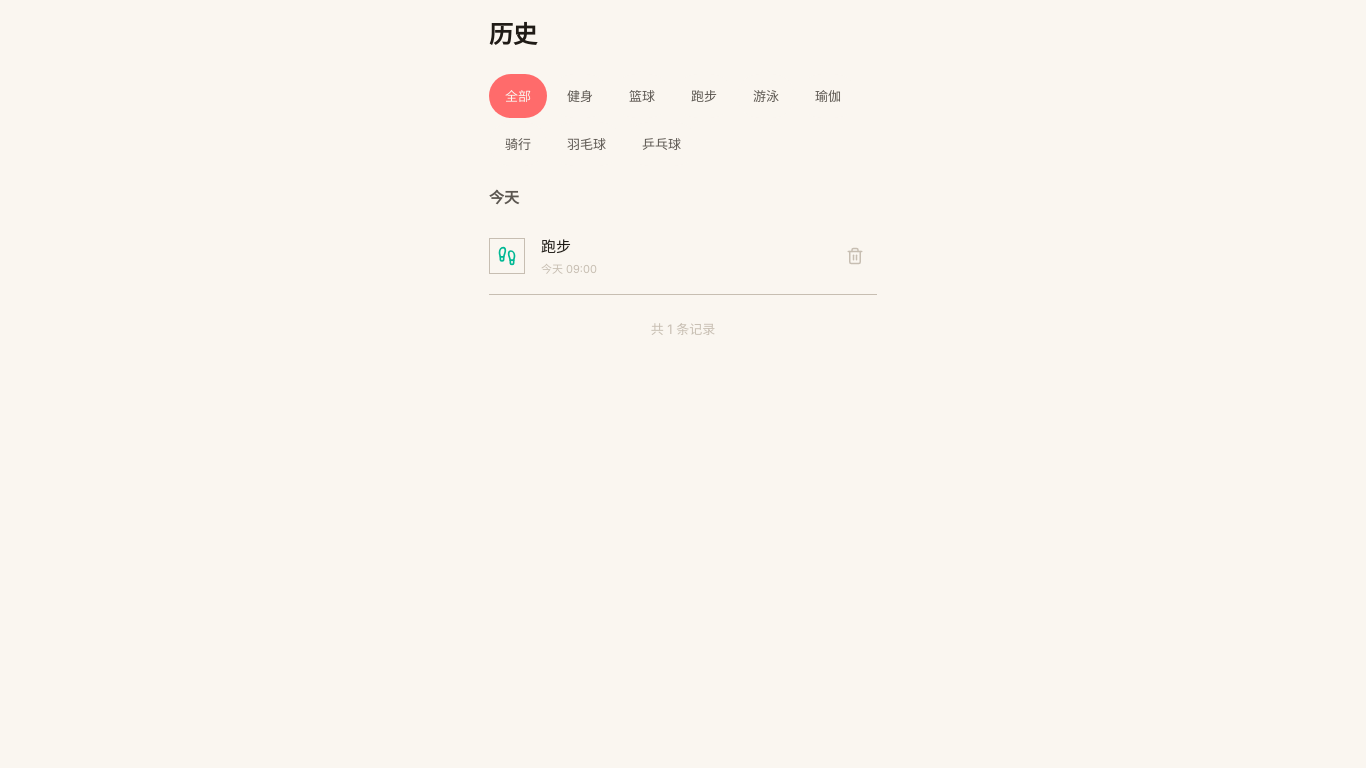
Test: History 历史记录页 › 取消删除后记录保留
Check: the element with test id "group-今天" is shown, box [489,186,877,295]
Step 1. Click the button named "删除" → x=855, y=256, box [833,234,877,278]
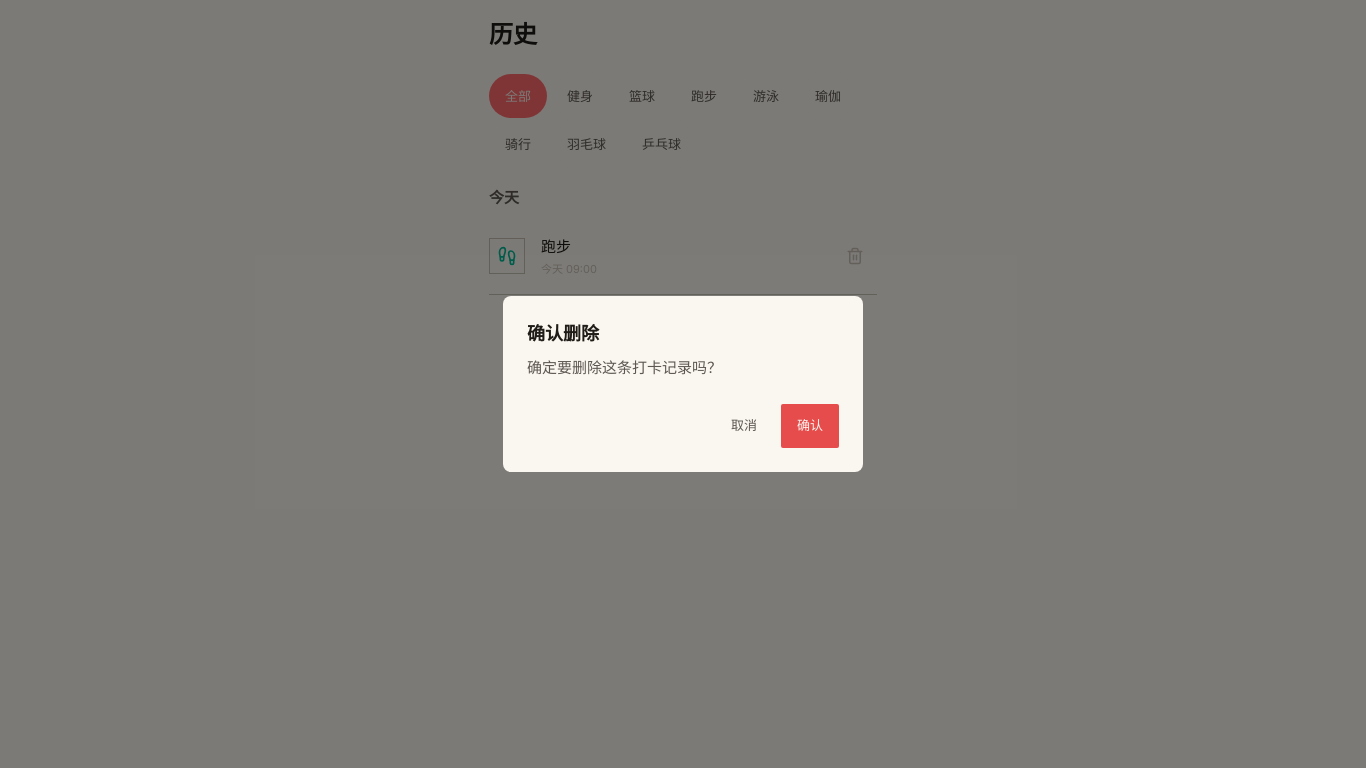
Check: the dialog with test id "confirm-dialog-backdrop" is shown
Step 2. Click the button "取消" → x=744, y=426, box [715,404,773,448]
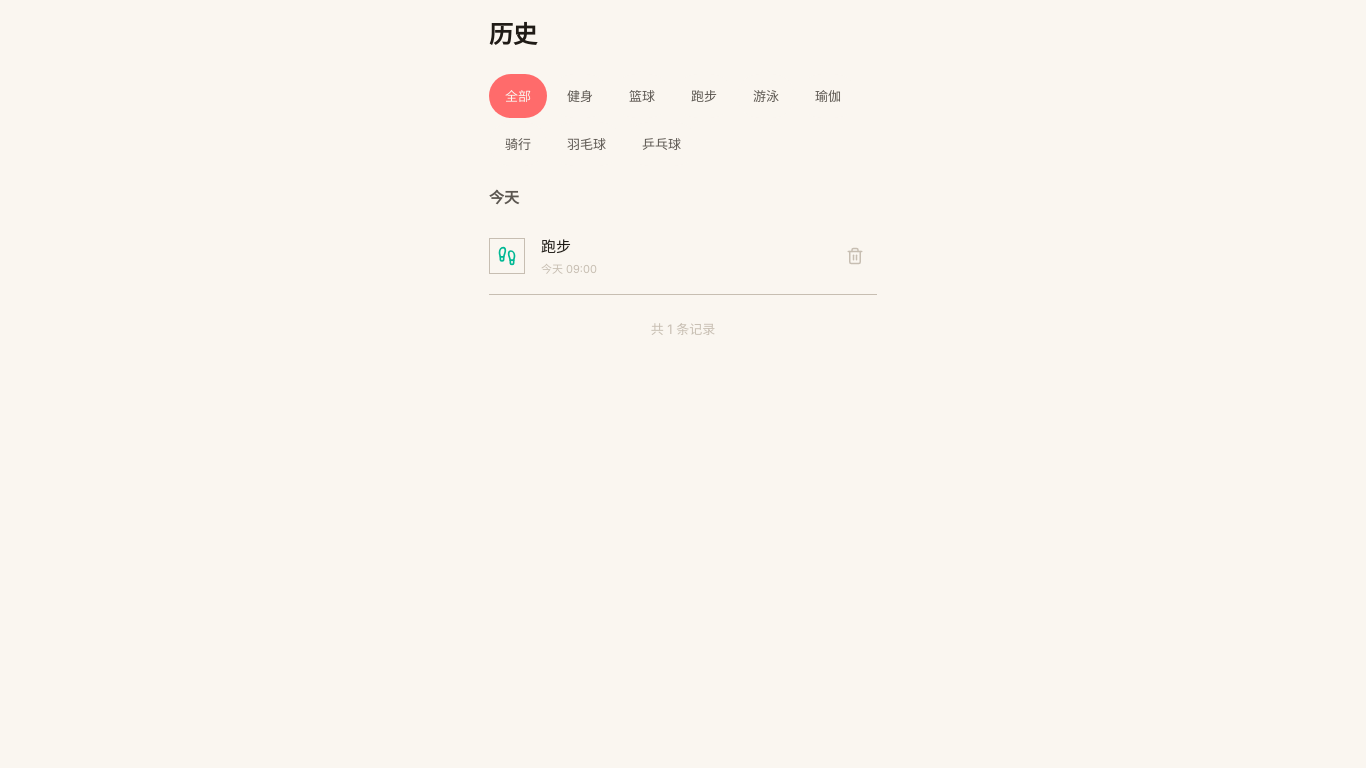
Check: the text "跑步" is shown, box [541,237,571,256]
Check: the dialog with test id "confirm-dialog-backdrop" is gone
